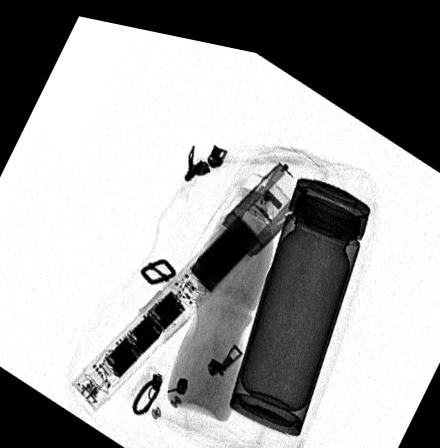Baton: (69, 147, 310, 408)
